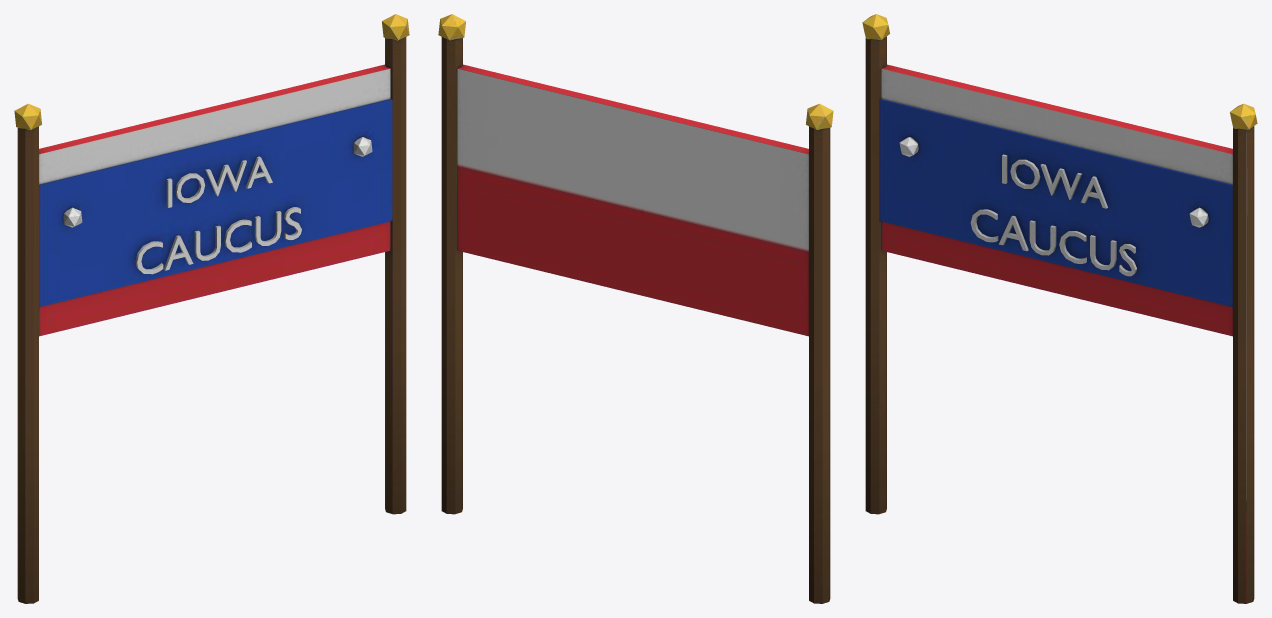
The model's file is pancarta_caucus.glb.
The picture shows the model from 3 angles, left to right: view 1: azimuth 30°, elevation 25°; view 2: azimuth 150°, elevation 25°; view 3: azimuth 330°, elevation 25°; orthographic projection.
Parts seen in each view (by area): view 1: pancarta_caucus; view 2: pancarta_caucus; view 3: pancarta_caucus.
Boxes of the visible parts, x1,y1,x2,y2 form: pancarta_caucus: (14, 14, 409, 603); pancarta_caucus: (438, 14, 833, 603); pancarta_caucus: (862, 14, 1257, 603).
Bounding box in the file's own units: 2.03 × 2.45 × 0.1521.
1 material, 1 textured.
